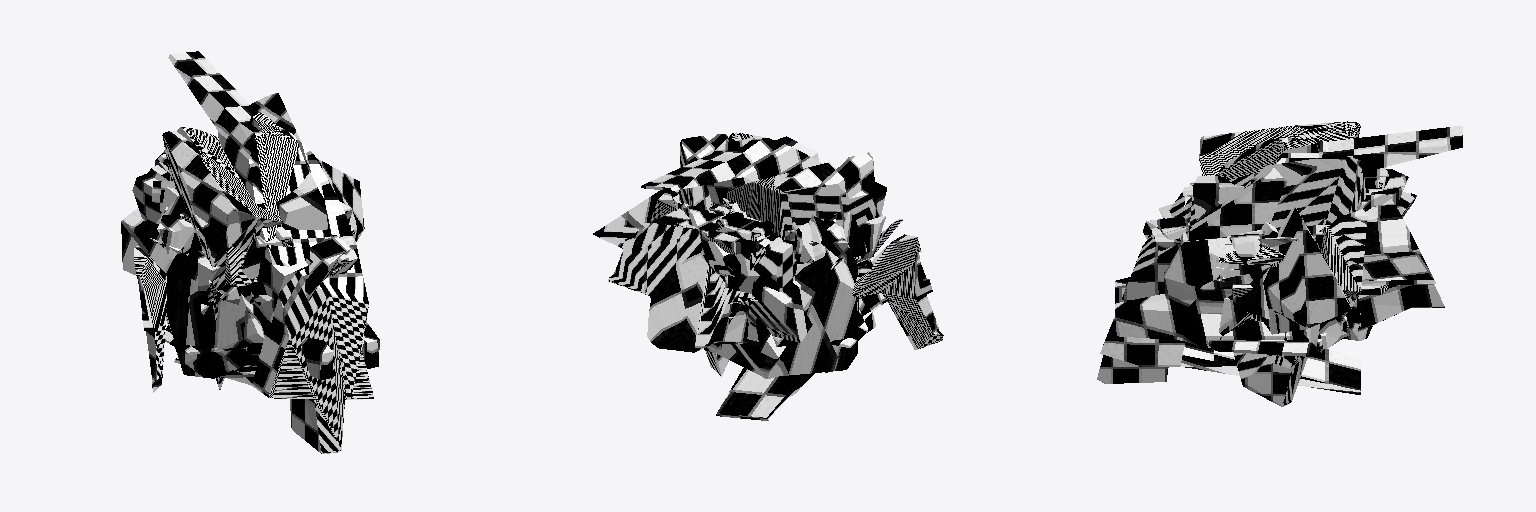
The picture shows the model from 3 angles: view 1: azimuth 30°, elevation 25°; view 2: azimuth 150°, elevation 25°; view 3: azimuth 270°, elevation 25°; orthographic projection.
Parts seen in each view (by area): view 1: SciFi_Fighter_MK_Part_174, SciFi_Fighter_MK_Part_169, SciFi_Fighter_MK_Part_73, SciFi_Fighter_MK_Part_75, SciFi_Fighter_MK_Part_173, SciFi_Fighter_MK_Part_90, SciFi_Fighter_MK_Part_88, SciFi_Fighter_MK_Part_87, SciFi_Fighter_MK_Part_86, SciFi_Fighter_MK_Part_96, SciFi_Fighter_MK_Part_85, SciFi_Fighter_MK_Part_54 (+1 smaller); view 2: SciFi_Fighter_MK_Part_88, SciFi_Fighter_MK_Part_174, SciFi_Fighter_MK_Part_73, SciFi_Fighter_MK_Part_169, SciFi_Fighter_MK_Part_75, SciFi_Fighter_MK_Part_87, SciFi_Fighter_MK_Part_90, SciFi_Fighter_MK_Part_173, SciFi_Fighter_MK_Part_86, SciFi_Fighter_MK_Part_107, SciFi_Fighter_MK_Part_85, SciFi_Fighter_MK_Part_103 (+3 smaller); view 3: SciFi_Fighter_MK_Part_174, SciFi_Fighter_MK_Part_88, SciFi_Fighter_MK_Part_173, SciFi_Fighter_MK_Part_75, SciFi_Fighter_MK_Part_169, SciFi_Fighter_MK_Part_103, SciFi_Fighter_MK_Part_87, SciFi_Fighter_MK_Part_89, SciFi_Fighter_MK_Part_86, SciFi_Fighter_MK_Part_77, SciFi_Fighter_MK_Part_104, SciFi_Fighter_MK_Part_90 (+1 smaller).
Part boxes in pixels (bbox=[...]): SciFi_Fighter_MK_Part_174: bbox=[168, 51, 373, 453]; SciFi_Fighter_MK_Part_169: bbox=[162, 127, 355, 389]; SciFi_Fighter_MK_Part_73: bbox=[144, 159, 264, 378]; SciFi_Fighter_MK_Part_75: bbox=[134, 158, 364, 392]; SciFi_Fighter_MK_Part_173: bbox=[152, 93, 327, 229]; SciFi_Fighter_MK_Part_90: bbox=[132, 154, 312, 361]; SciFi_Fighter_MK_Part_88: bbox=[165, 237, 379, 380]; SciFi_Fighter_MK_Part_87: bbox=[121, 150, 357, 301]; SciFi_Fighter_MK_Part_86: bbox=[305, 235, 350, 302]; SciFi_Fighter_MK_Part_96: bbox=[157, 207, 193, 259]; SciFi_Fighter_MK_Part_85: bbox=[242, 227, 296, 284]; SciFi_Fighter_MK_Part_54: bbox=[225, 247, 251, 287]; SciFi_Fighter_MK_Part_88: bbox=[608, 208, 867, 352]; SciFi_Fighter_MK_Part_174: bbox=[641, 133, 886, 420]; SciFi_Fighter_MK_Part_73: bbox=[715, 169, 858, 378]; SciFi_Fighter_MK_Part_169: bbox=[726, 152, 886, 372]; SciFi_Fighter_MK_Part_75: bbox=[593, 190, 943, 349]; SciFi_Fighter_MK_Part_87: bbox=[673, 192, 812, 342]; SciFi_Fighter_MK_Part_90: bbox=[716, 211, 796, 317]; SciFi_Fighter_MK_Part_173: bbox=[679, 132, 818, 376]; SciFi_Fighter_MK_Part_86: bbox=[701, 240, 752, 305]; SciFi_Fighter_MK_Part_107: bbox=[709, 205, 885, 263]; SciFi_Fighter_MK_Part_85: bbox=[723, 198, 785, 358]; SciFi_Fighter_MK_Part_103: bbox=[650, 191, 902, 259]; SciFi_Fighter_MK_Part_174: bbox=[1097, 126, 1462, 394]; SciFi_Fighter_MK_Part_88: bbox=[1115, 199, 1444, 356]; SciFi_Fighter_MK_Part_173: bbox=[1193, 156, 1365, 406]; SciFi_Fighter_MK_Part_75: bbox=[1259, 205, 1351, 334]; SciFi_Fighter_MK_Part_169: bbox=[1199, 121, 1360, 266]; SciFi_Fighter_MK_Part_103: bbox=[1318, 209, 1367, 352]; SciFi_Fighter_MK_Part_87: bbox=[1151, 169, 1408, 250]; SciFi_Fighter_MK_Part_89: bbox=[1181, 275, 1372, 340]; SciFi_Fighter_MK_Part_86: bbox=[1143, 192, 1416, 239]; SciFi_Fighter_MK_Part_77: bbox=[1228, 222, 1277, 319]; SciFi_Fighter_MK_Part_104: bbox=[1228, 234, 1264, 282]; SciFi_Fighter_MK_Part_90: bbox=[1159, 167, 1388, 294].
Size of the model in its own units: 5.43 by 4.96 by 6.16.
Materials: 222 (1 with a texture image).